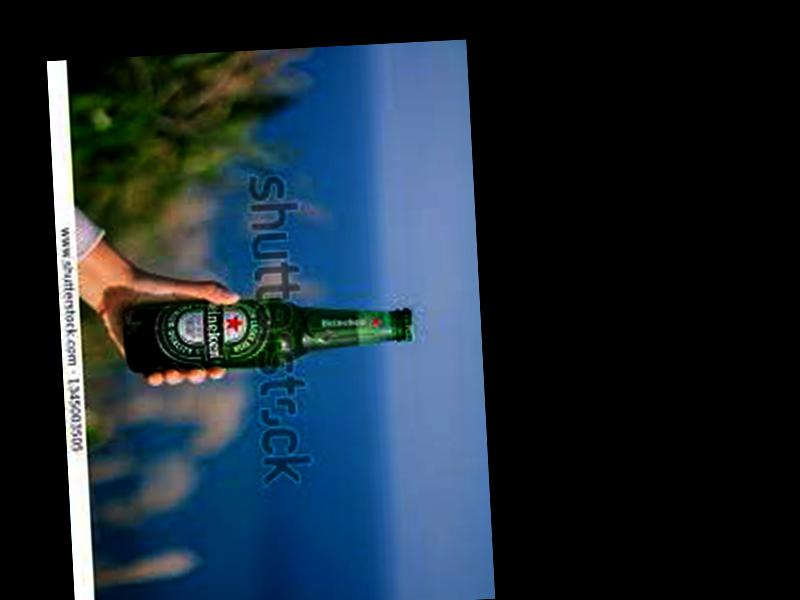Beer: (126, 287, 415, 373)
